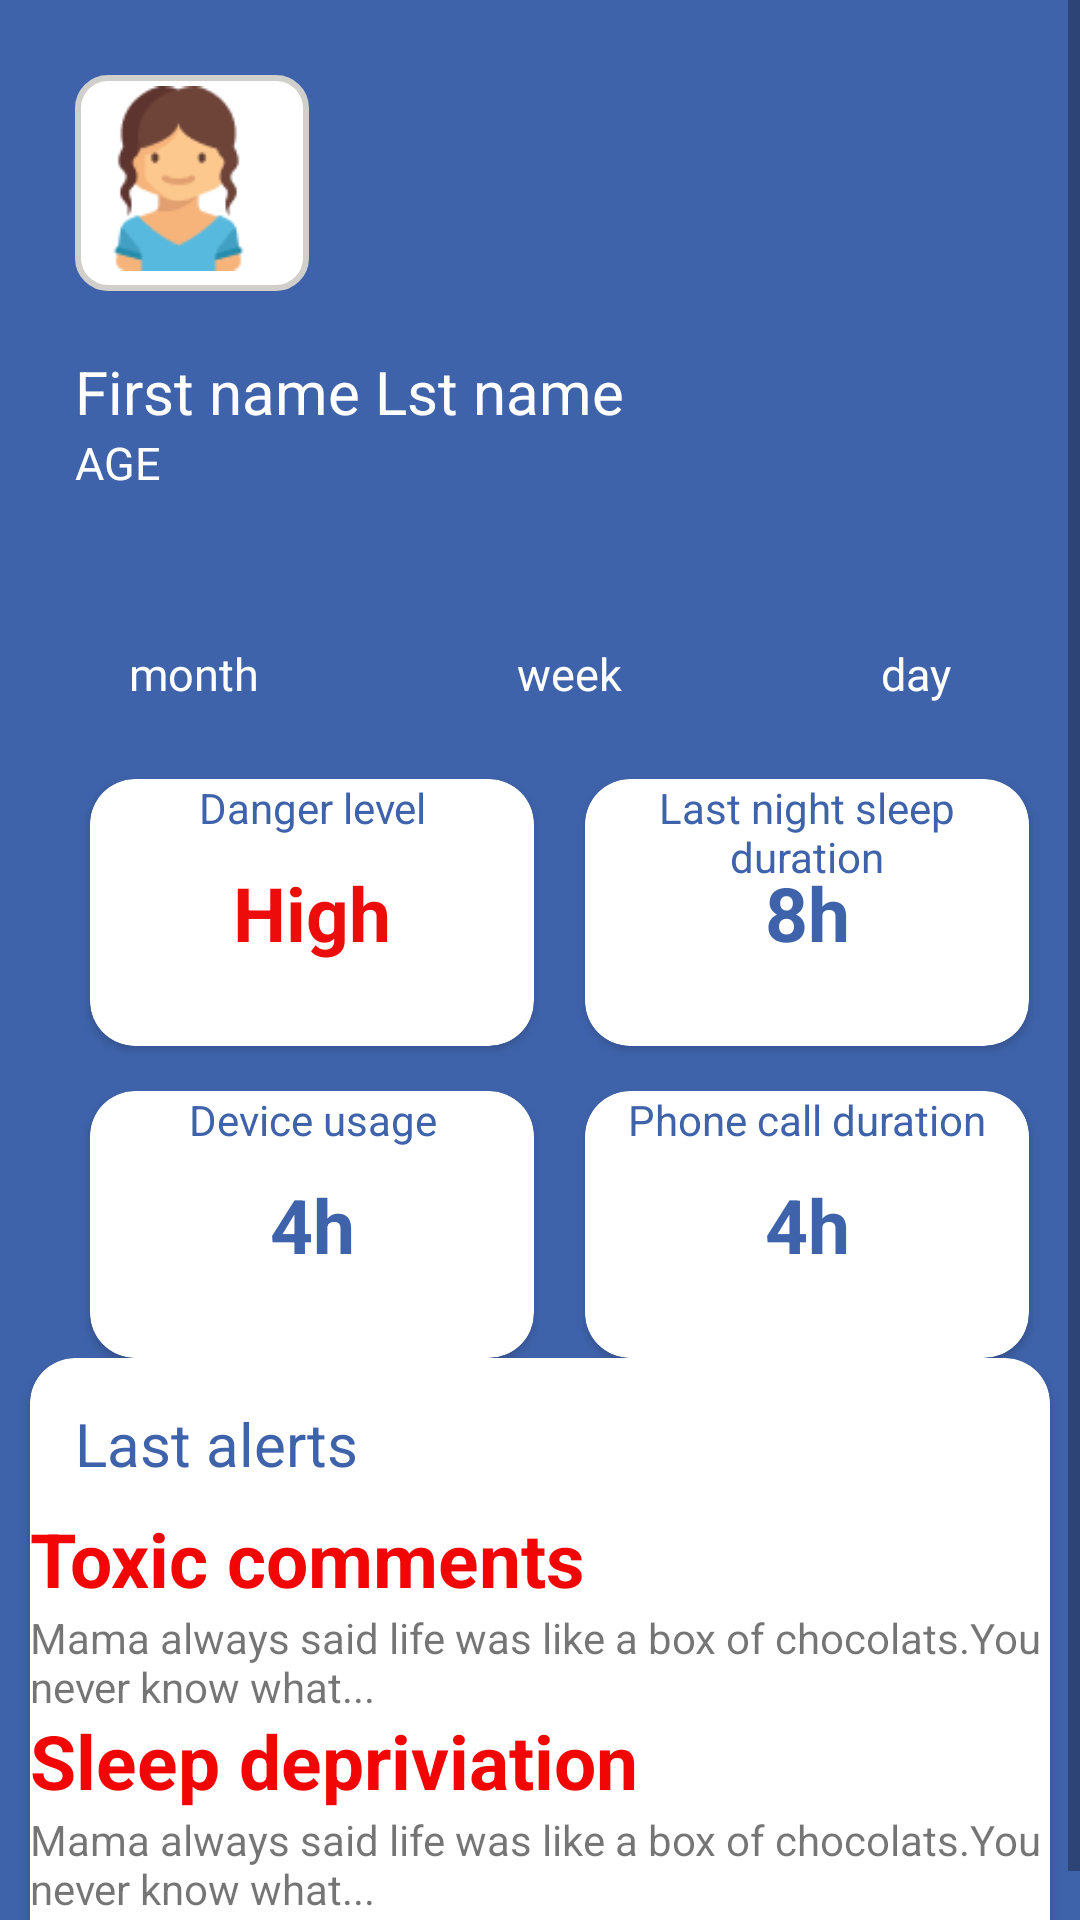

Icon bounding boxes for this 1080px x 1920px phone screenshot, format (x1, y1, x2, y2):
avatargirl: (113, 86, 244, 271)
